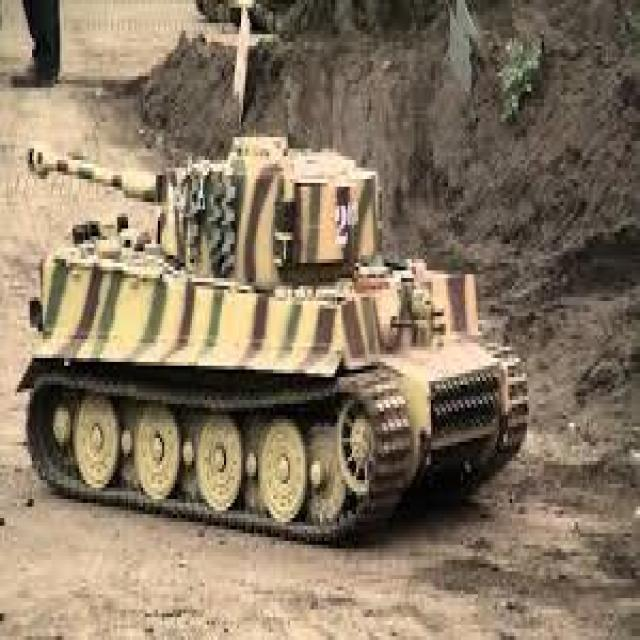Tanks: (17, 51, 548, 596)
